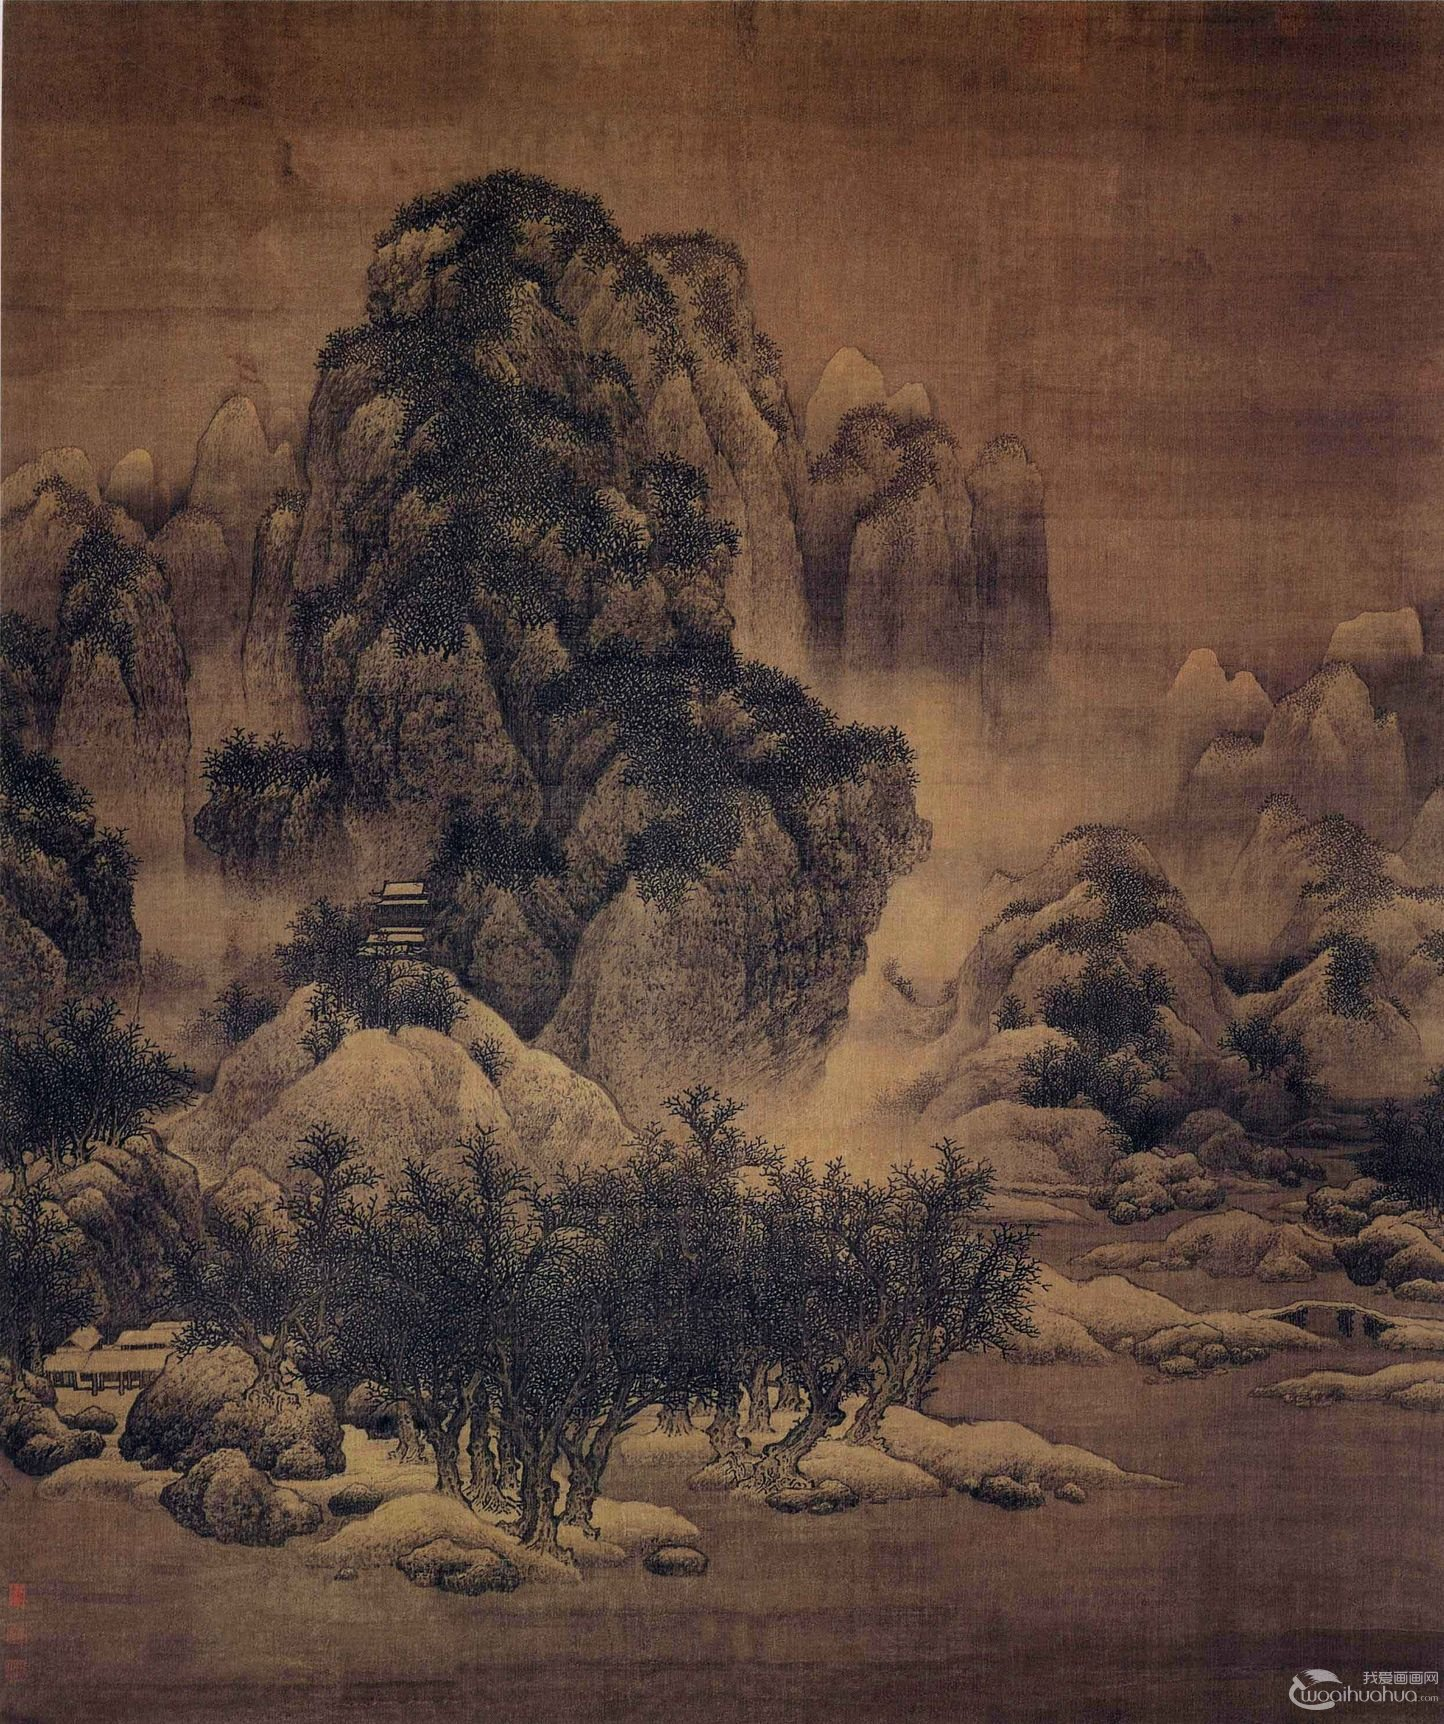house: (39, 1323, 179, 1399)
mountain: (305, 158, 791, 795), (483, 662, 913, 1077), (968, 835, 1441, 1193), (1, 382, 317, 759), (811, 345, 1047, 667), (1, 740, 188, 1108), (1173, 613, 1444, 835)
pine: (372, 1133, 1026, 1505), (189, 1135, 407, 1367), (1, 971, 211, 1171), (1037, 945, 1180, 1123), (289, 945, 468, 1031), (1, 1166, 74, 1373), (205, 723, 332, 798)
